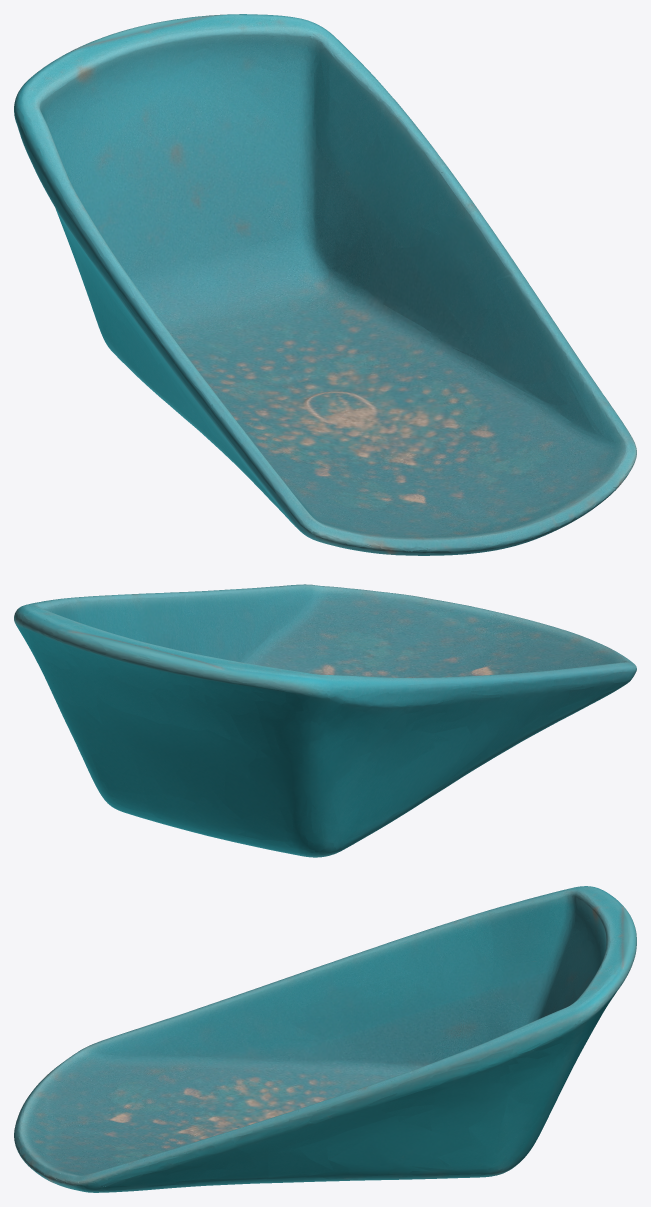
The model's file is paletta.glb.
The picture shows the model from 3 angles, top to bottom: view 1: azimuth 30°, elevation 25°; view 2: azimuth 150°, elevation 25°; view 3: azimuth 270°, elevation 25°; orthographic projection. The views are drawn at different scales.
Size of the model in its own units: 1.03 by 0.7156 by 1.9.
1 material, 1 textured.
